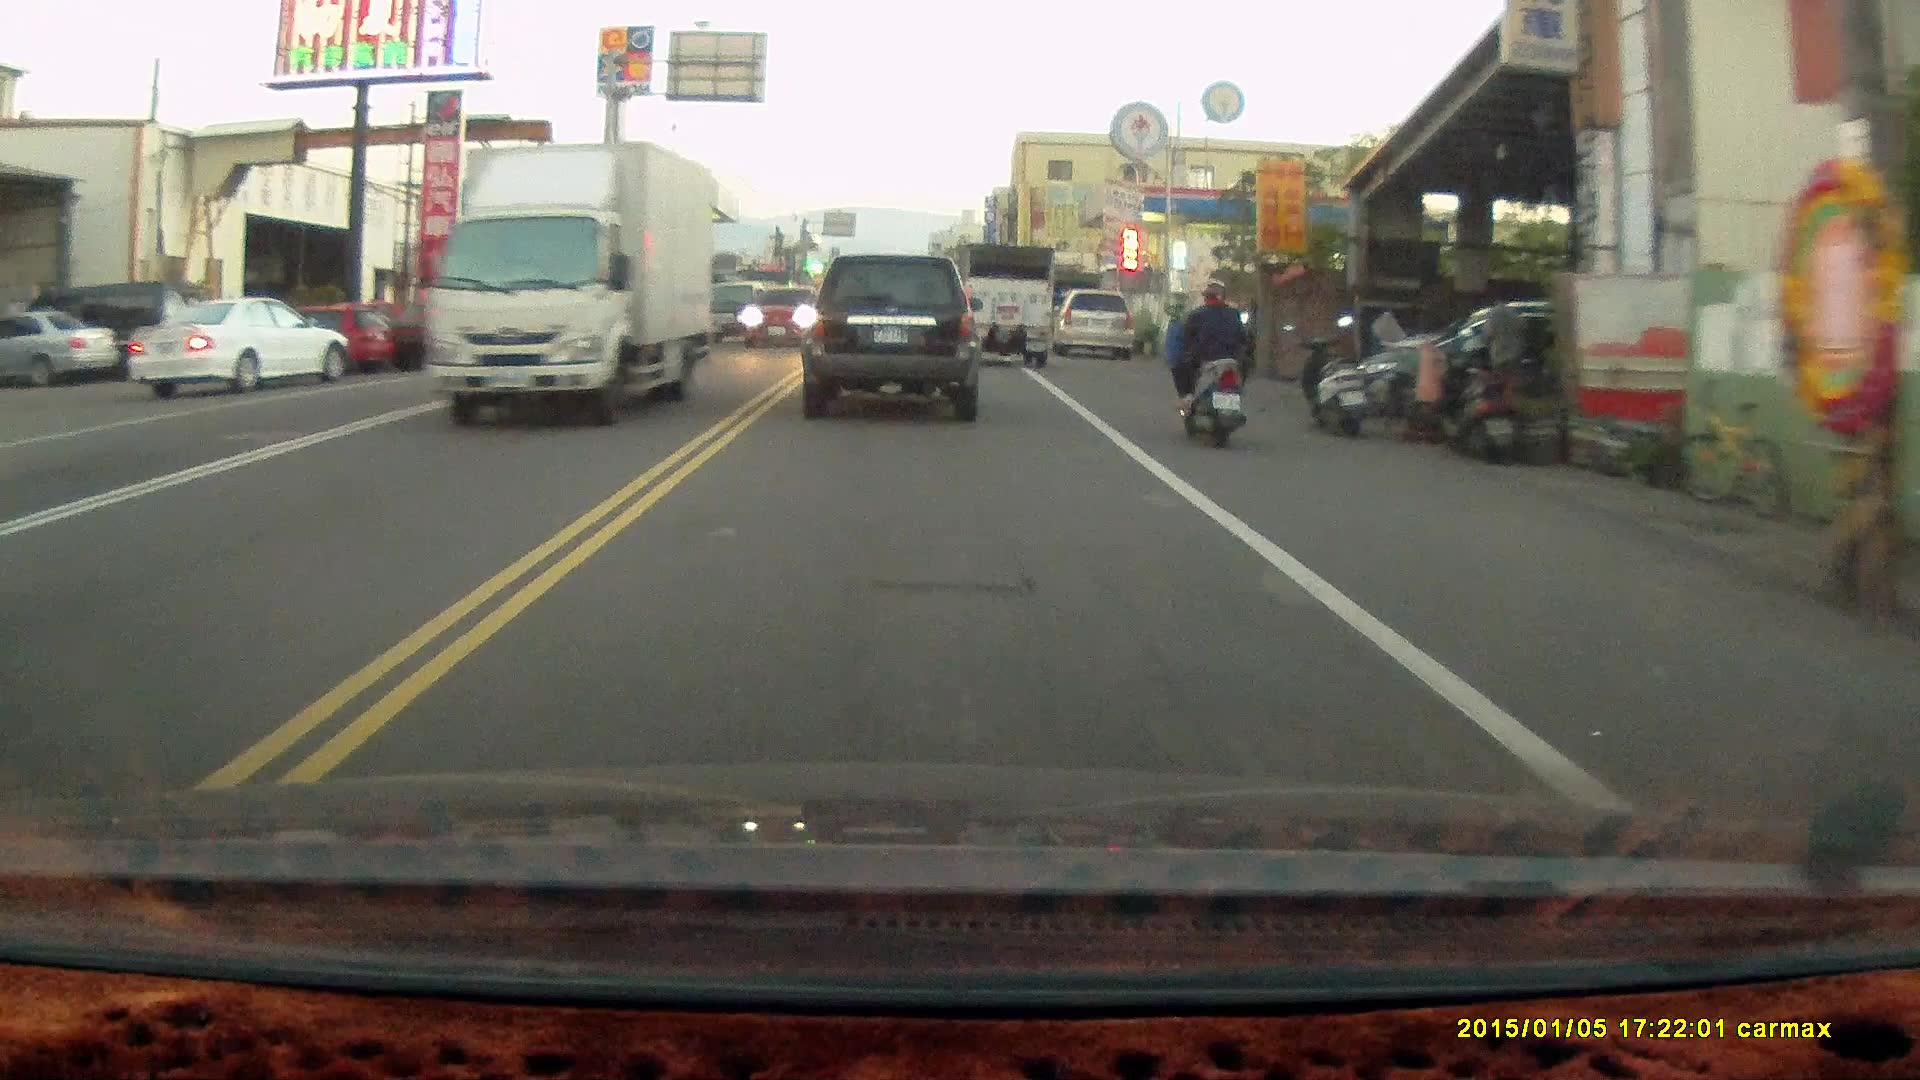pedestrian: (1478, 286, 1528, 421)
rider: (1165, 276, 1251, 451)
vehicle: (434, 135, 722, 433), (796, 248, 982, 420), (129, 299, 356, 401), (962, 237, 1055, 364), (4, 304, 118, 383), (1056, 284, 1135, 359)
